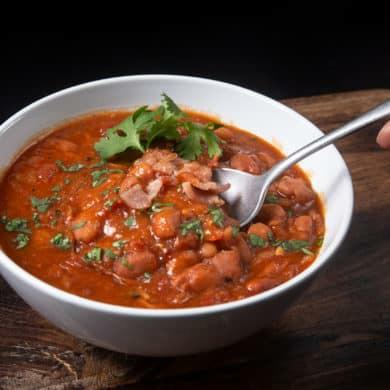RajmaCurry: (0, 109, 325, 307)
